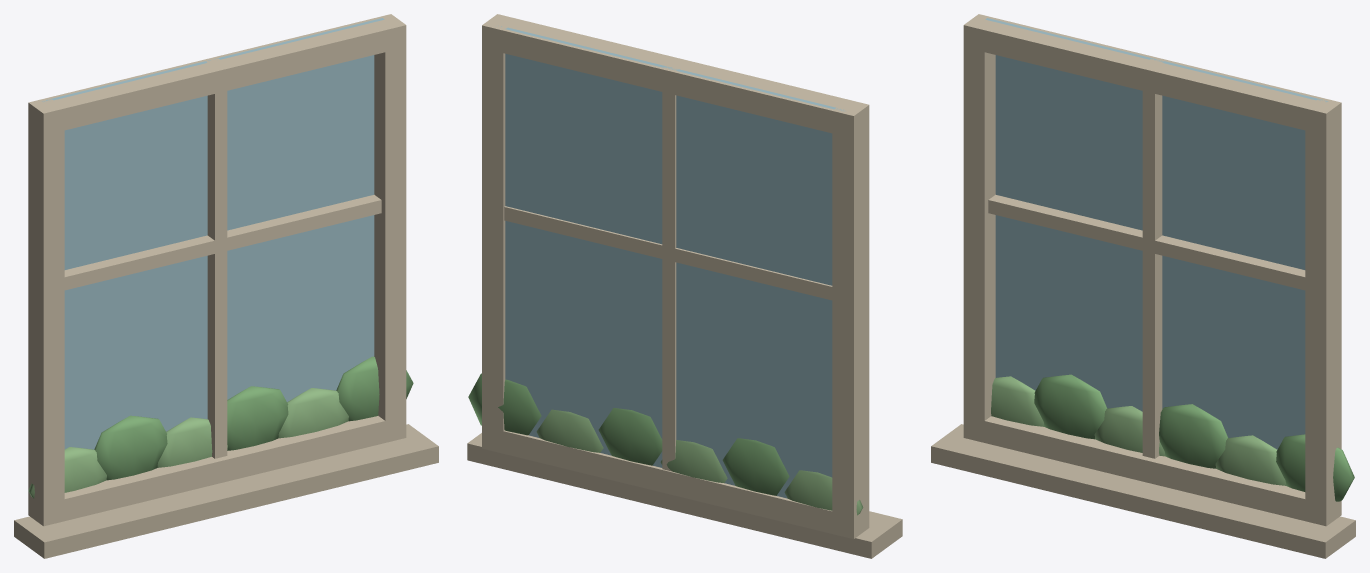
File: window_frame.glb
The picture shows the model from 3 angles, left to right: view 1: azimuth 30°, elevation 25°; view 2: azimuth 150°, elevation 25°; view 3: azimuth 330°, elevation 25°; orthographic projection. The views are drawn at different scales.
Visible parts, largest first — view 1: body_nl, body; view 2: body_nl, body; view 3: body_nl, body.
Boxes of the visible parts, x1,y1,x2,y2 form: body_nl: (28, 18, 413, 498); body: (14, 14, 438, 558); body_nl: (468, 25, 863, 515); body: (467, 14, 902, 558); body_nl: (985, 18, 1354, 501); body: (931, 14, 1355, 558).
Size of the model in its own units: 30.04 by 31.2 by 4.24.
